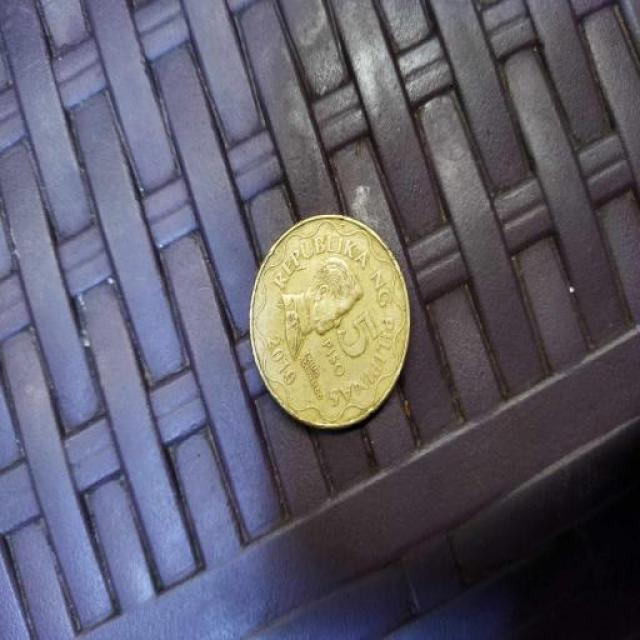5 peso-old: (241, 206, 419, 437)
